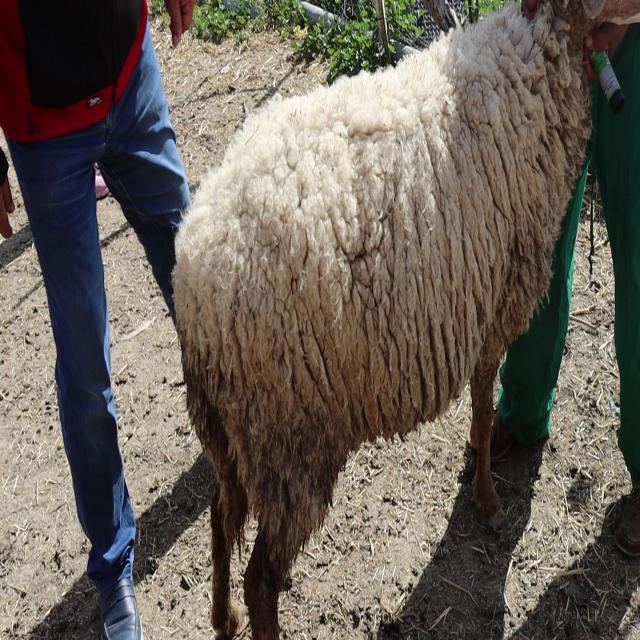Score_5: (174, 0, 640, 639)
